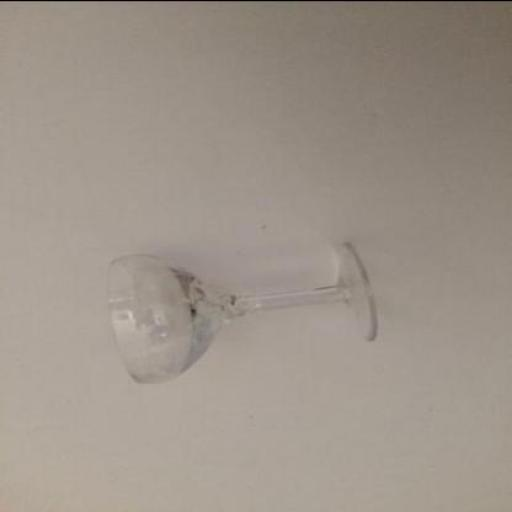glass: (104, 242, 377, 383)
